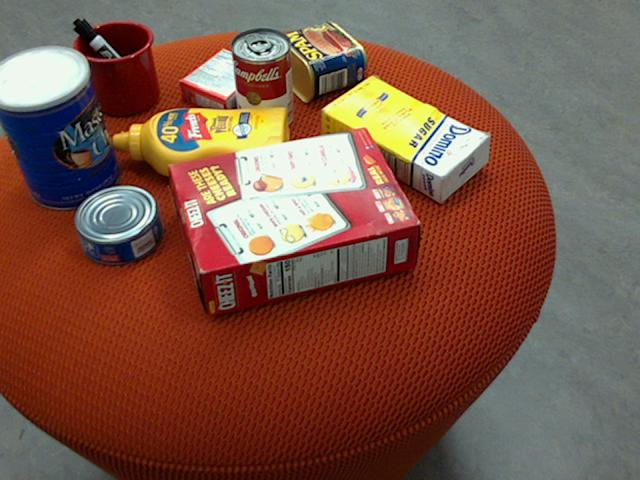cracker_box: (168, 126, 420, 314)
gelatin_box: (179, 47, 270, 116)
large_marker: (72, 17, 154, 101)
master_chef_can: (0, 45, 120, 210)
mug: (59, 21, 159, 115)
mustard_bottle: (113, 106, 290, 179)
potted_meat_can: (269, 22, 367, 103)
sugar_box: (320, 76, 492, 201)
tomato_soup_can: (230, 26, 293, 133)
tuna_fish_can: (73, 185, 163, 265)
